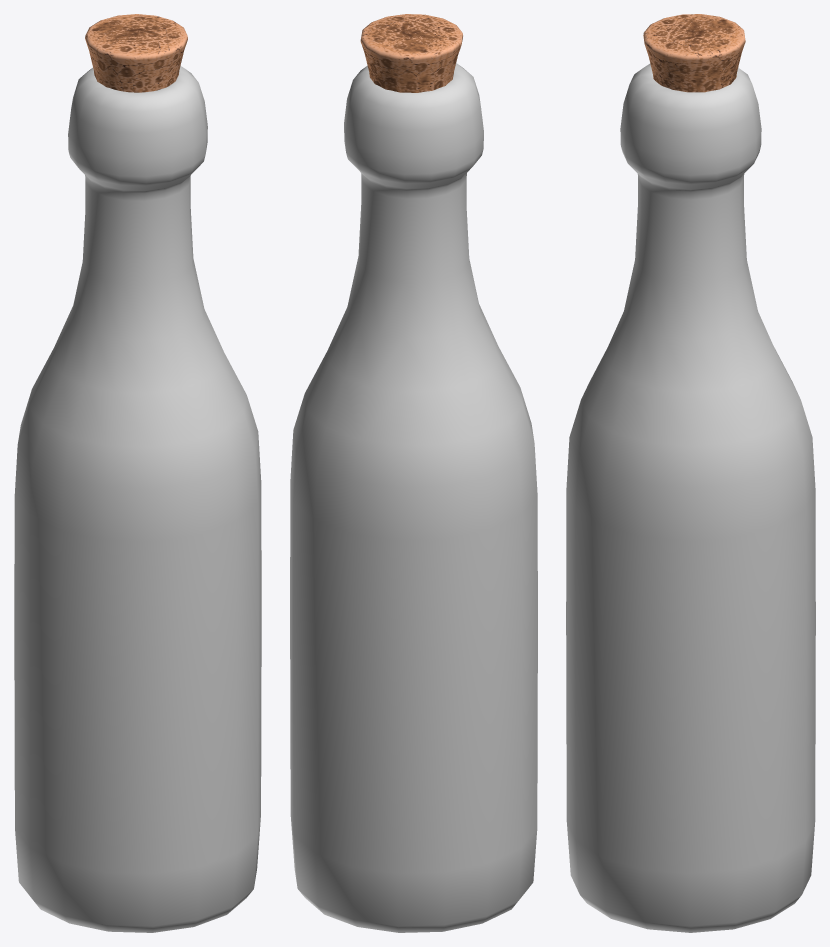
File: Bottle_D.fbx
3 renders of one model, left to right at view 1: azimuth 30°, elevation 25°; view 2: azimuth 150°, elevation 25°; view 3: azimuth 270°, elevation 25°, orthographic.
Visible parts, largest first — view 1: Bottle_03; view 2: Bottle_03; view 3: Bottle_03.
Boxes of the visible parts, box(x1,y1,x2,y2) form: Bottle_03: box(14, 14, 261, 932); Bottle_03: box(290, 14, 537, 932); Bottle_03: box(566, 14, 815, 932).
Size of the model in its own units: 38.93 by 147 by 38.93.
